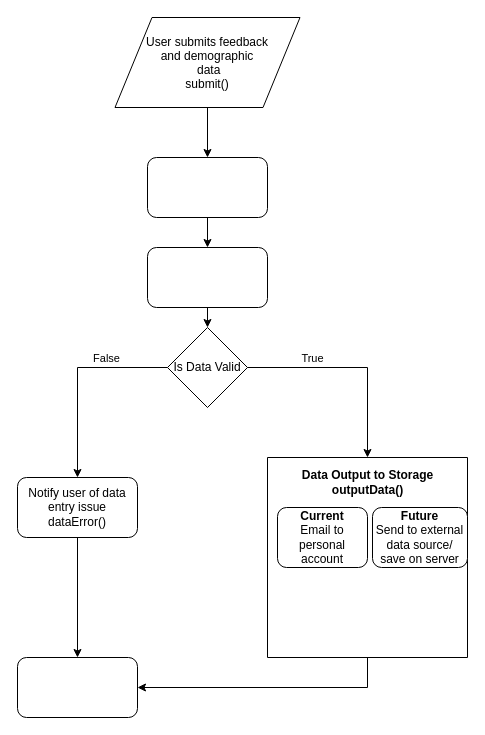
Some shapes in this 485 by 735 pixel diagram are drawn without their labels. The centre of each missing label's shape, as x and y in pixels:
"Data is read and packaged from web page getData()" belongs at [207,187].
"End" belongs at [77,687].
"Validates data entered ValidateData()" belongs at [207,277].
